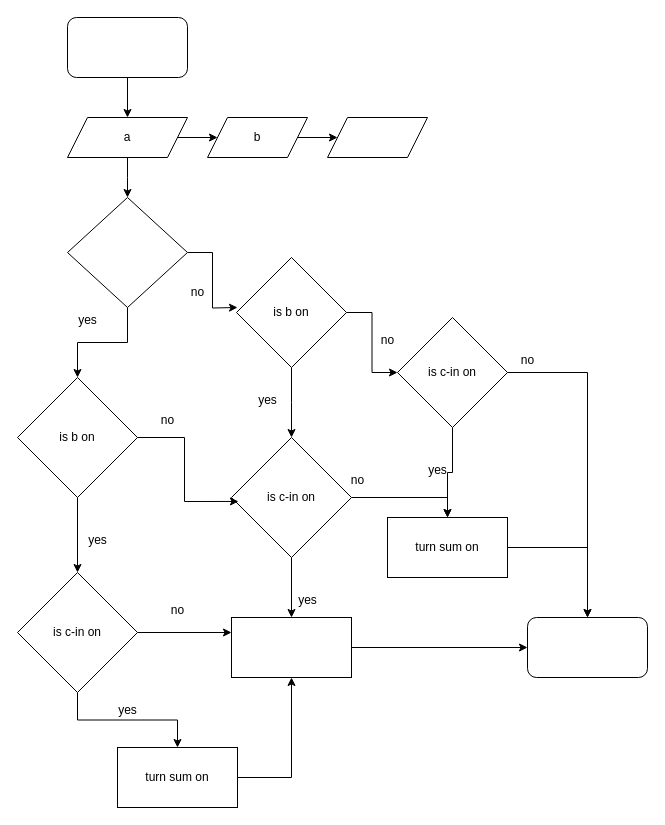
Some shapes in this 665 by 825 pixel diagram are drawn without their labels. Each missing label, with the centre of its shape:
c-in: (x=377, y=137)
End: (x=587, y=647)
Is a on: (x=127, y=252)
Start: (x=127, y=47)
turn carry on: (x=291, y=647)
